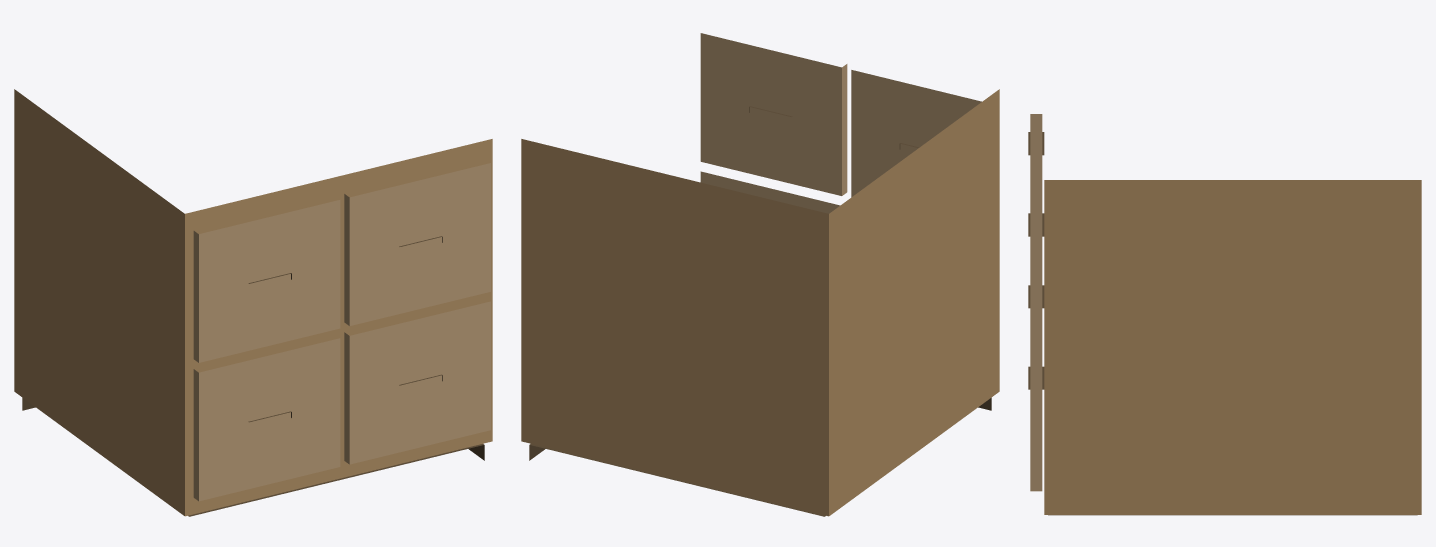
Rendered from Storage-tan.glb.
3 views of the same model, side by side, from view 1: azimuth 30°, elevation 25°; view 2: azimuth 150°, elevation 25°; view 3: azimuth 270°, elevation 25° (orthographic). The views are drawn at different scales.
Visible parts, largest first — view 1: Storage; view 2: Storage; view 3: Storage.
Part boxes in pixels (bbox=[...]): Storage: bbox=[14, 89, 492, 516]; Storage: bbox=[521, 33, 999, 516]; Storage: bbox=[1028, 114, 1421, 515].
Bounding box in the file's own units: 1 × 1 × 1.
